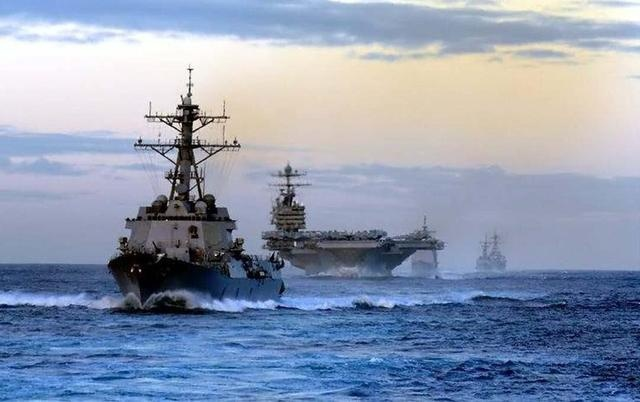warship: (107, 66, 288, 313), (266, 157, 443, 287), (409, 216, 445, 281), (474, 229, 508, 275)
